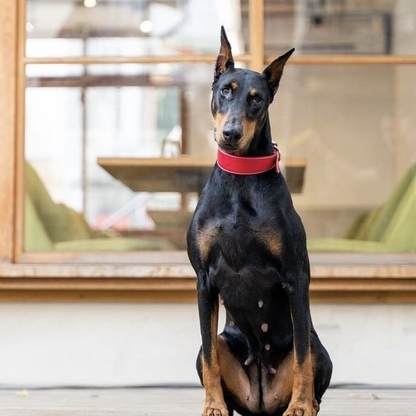doberman: (181, 23, 341, 414)
